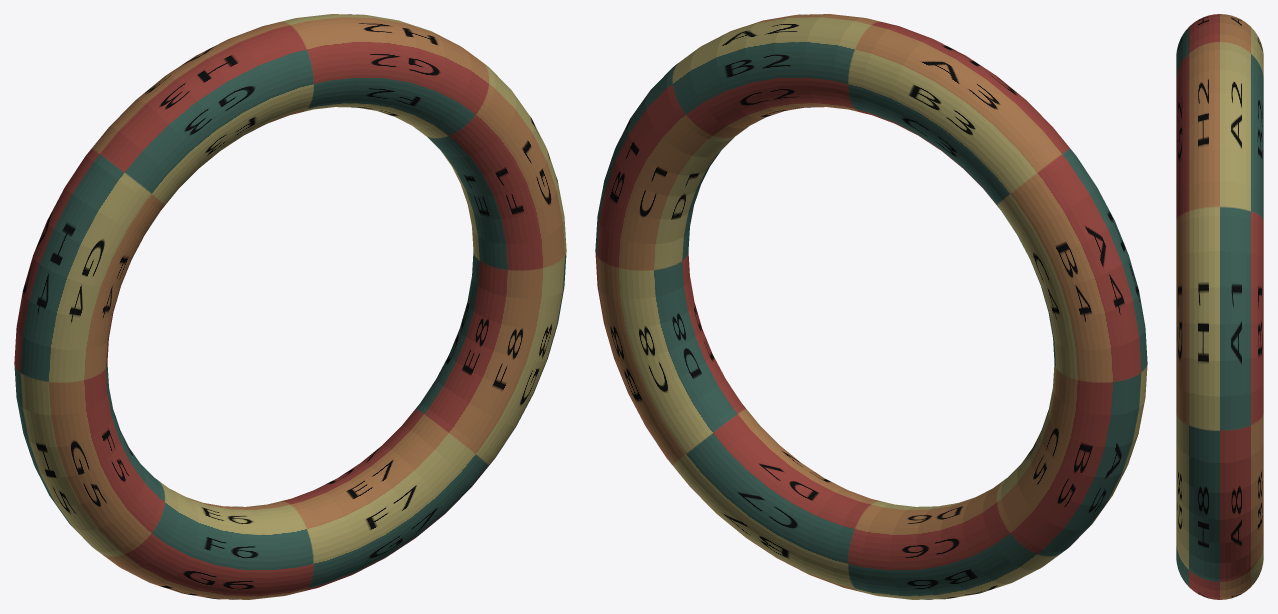
File: texture_torus_R18_r7.glb
3 views of the same model, side by side, from view 1: azimuth 30°, elevation 25°; view 2: azimuth 150°, elevation 25°; view 3: azimuth 270°, elevation 25° (orthographic). The views are drawn at different scales.
Visible parts, largest first — view 1: world; view 2: world; view 3: world.
Boxes of the visible parts, box(x1,y1,x2,y2) form: world: box(14, 14, 566, 599); world: box(595, 14, 1147, 599); world: box(1176, 14, 1263, 599).
Size of the model in its own units: 25.87 by 25.82 by 3.86.
Materials: 1 (1 with a texture image).
